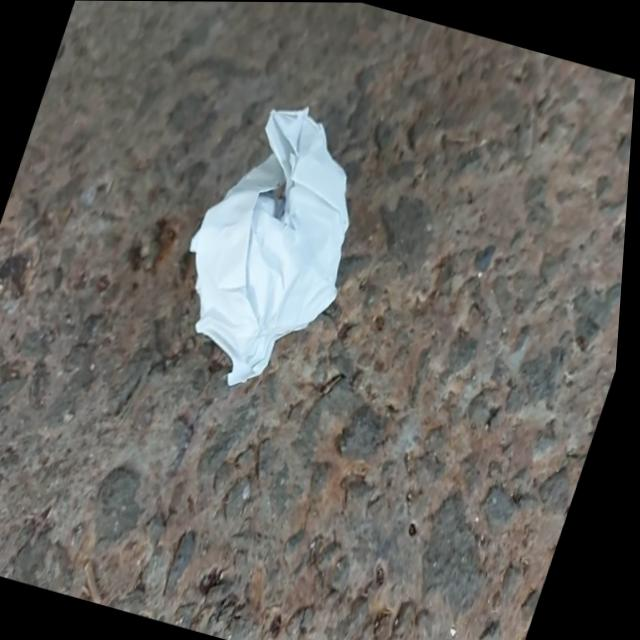paper: (129, 59, 426, 422)
